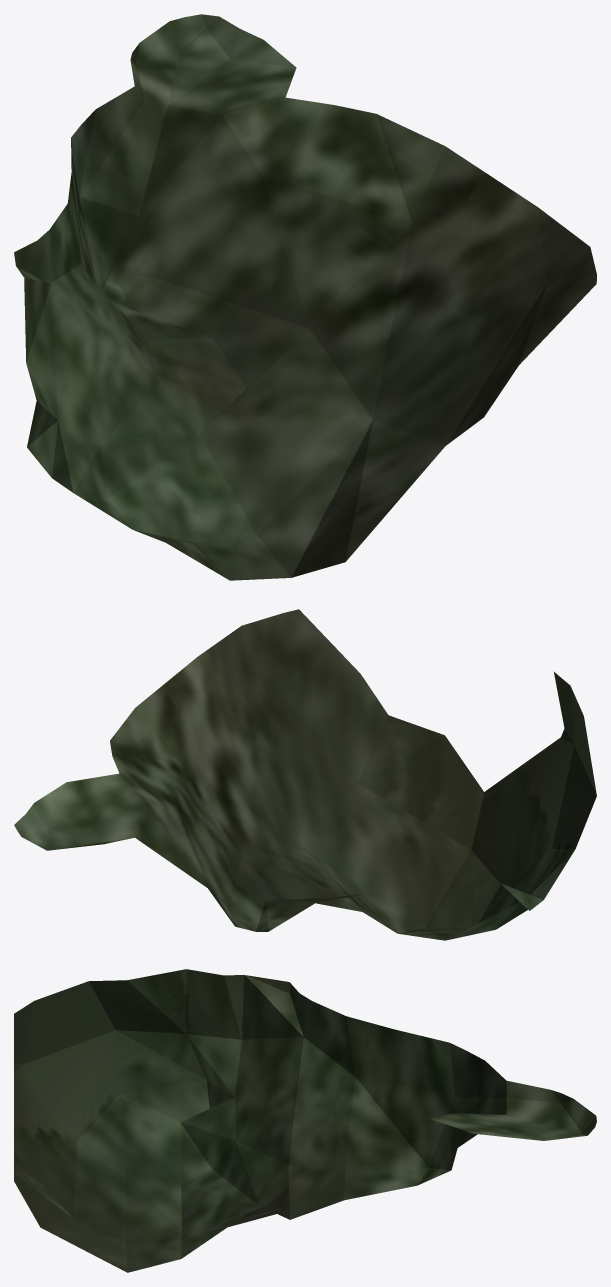
The picture shows the model from 3 angles, top to bottom: view 1: azimuth 30°, elevation 25°; view 2: azimuth 150°, elevation 25°; view 3: azimuth 270°, elevation 25°; orthographic projection. The views are drawn at different scales.
Size of the model in its own units: 1.24 by 0.7112 by 1.67.
1 material, 1 textured.
